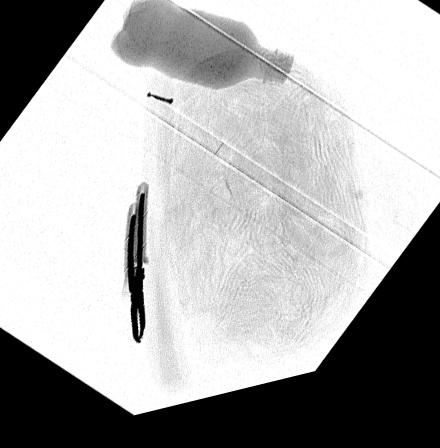Pliers: (129, 194, 146, 349)
